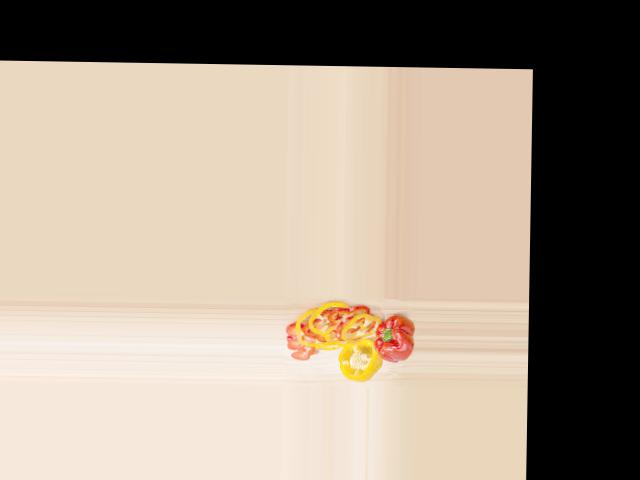bell_pepper: (336, 338, 380, 383)
